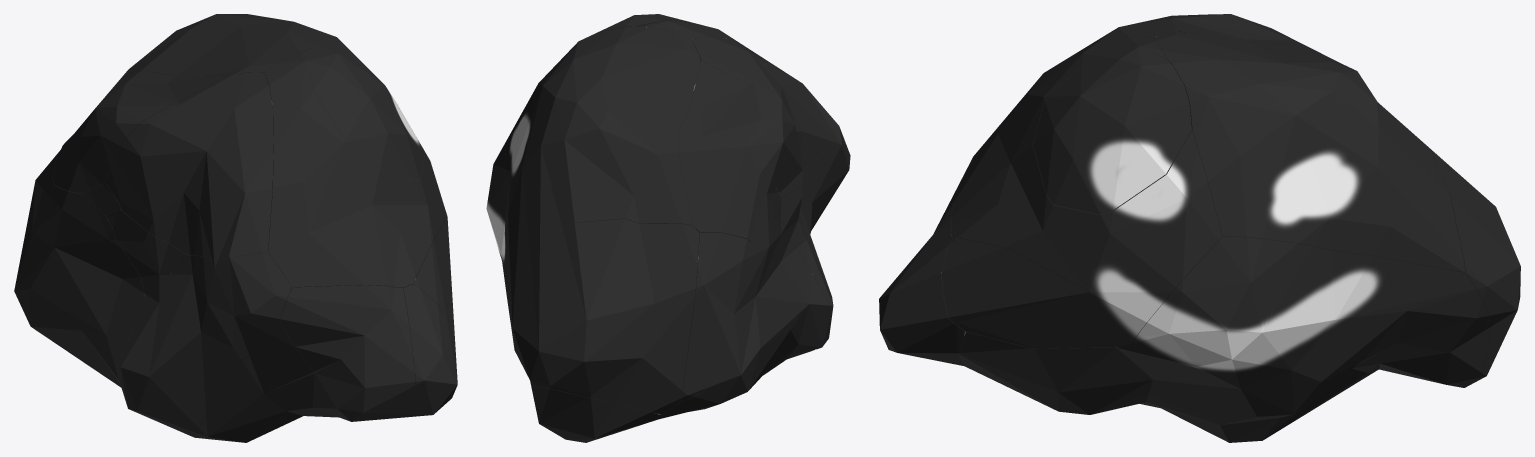
File: rochBossBroken.fbx
3 renders of one model, left to right at view 1: azimuth 30°, elevation 25°; view 2: azimuth 150°, elevation 25°; view 3: azimuth 270°, elevation 25°, orthographic. The views are drawn at different scales.
Visible parts, largest first — view 1: Icosphere_cell.018, Icosphere_cell.017, Icosphere_cell.013, Icosphere_cell.007, Icosphere_cell.005, Icosphere_cell.014, Icosphere_cell.002, Icosphere_cell.019, Icosphere_cell.015, Icosphere_cell, Icosphere_cell.001, Icosphere_cell.008 (+2 smaller); view 2: Icosphere_cell.002, Icosphere_cell.010, Icosphere_cell.015, Icosphere_cell.007, Icosphere_cell.004, Icosphere_cell.017, Icosphere_cell.011, Icosphere_cell.013, Icosphere_cell.009, Icosphere_cell.001, Icosphere_cell.018, Icosphere_cell.019; view 3: Icosphere_cell.009, Icosphere_cell.002, Icosphere_cell.018, Icosphere_cell.019, Icosphere_cell.008, Icosphere_cell.016, Icosphere_cell.010, Icosphere_cell, Icosphere_cell.015, Icosphere_cell.017, Icosphere_cell.005, Icosphere_cell.011.
Part boxes in pixels (box(x1,y1,x2,y2)): Icosphere_cell.018: box(265, 48, 447, 287); Icosphere_cell.017: box(105, 72, 273, 258); Icosphere_cell.013: box(119, 252, 291, 434); Icosphere_cell.007: box(14, 185, 145, 403); Icosphere_cell.005: box(279, 285, 415, 421); Icosphere_cell.014: box(190, 286, 338, 442); Icosphere_cell.002: box(121, 14, 346, 78); Icosphere_cell.019: box(305, 43, 424, 180); Icosphere_cell.015: box(52, 70, 225, 193); Icosphere_cell: box(403, 284, 457, 416); Icosphere_cell.001: box(107, 210, 188, 299); Icosphere_cell.008: box(413, 216, 454, 328); Icosphere_cell.002: box(504, 26, 700, 301); Icosphere_cell.010: box(511, 219, 699, 414); Icosphere_cell.015: box(679, 61, 789, 242); Icosphere_cell.007: box(660, 216, 830, 418); Icosphere_cell.004: box(680, 232, 751, 401); Icosphere_cell.017: box(692, 36, 839, 197); Icosphere_cell.011: box(531, 386, 661, 442); Icosphere_cell.013: box(799, 127, 850, 349); Icosphere_cell.009: box(486, 136, 518, 358); Icosphere_cell.001: box(778, 185, 802, 251); Icosphere_cell.018: box(637, 20, 754, 60); Icosphere_cell.019: box(598, 14, 690, 32); Icosphere_cell.009: box(1127, 236, 1490, 442); Icosphere_cell.002: box(1153, 32, 1465, 272); Icosphere_cell.018: box(950, 36, 1222, 350); Icosphere_cell.019: box(1033, 46, 1191, 214); Icosphere_cell.008: box(941, 238, 1123, 348); Icosphere_cell.016: box(952, 331, 1166, 414); Icosphere_cell.010: box(1431, 150, 1520, 335); Icosphere_cell: box(879, 233, 964, 363); Icosphere_cell.015: box(1181, 14, 1322, 54); Icosphere_cell.017: box(1003, 15, 1182, 120); Icosphere_cell.005: box(900, 162, 971, 273); Icosphere_cell.011: box(1460, 318, 1513, 387).
Bounding box in the file's own units: 2.6 × 3.93 × 2.7.
